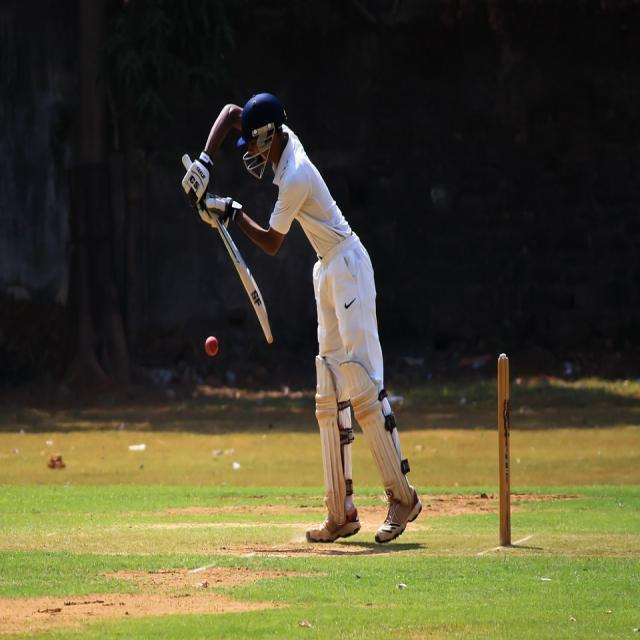stump: (496, 352, 511, 546)
